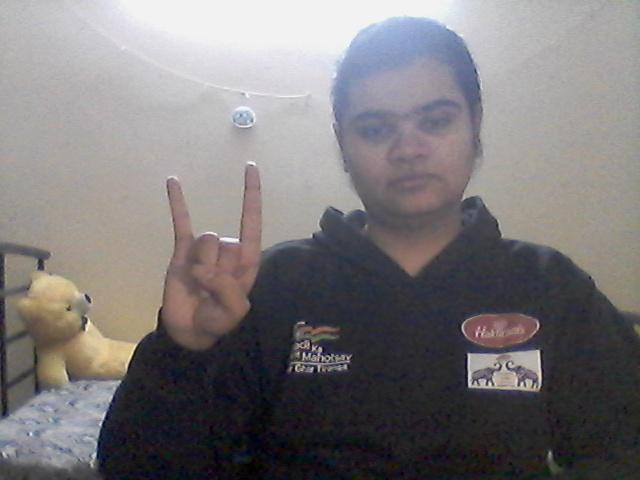ilove you: (154, 155, 274, 355)
